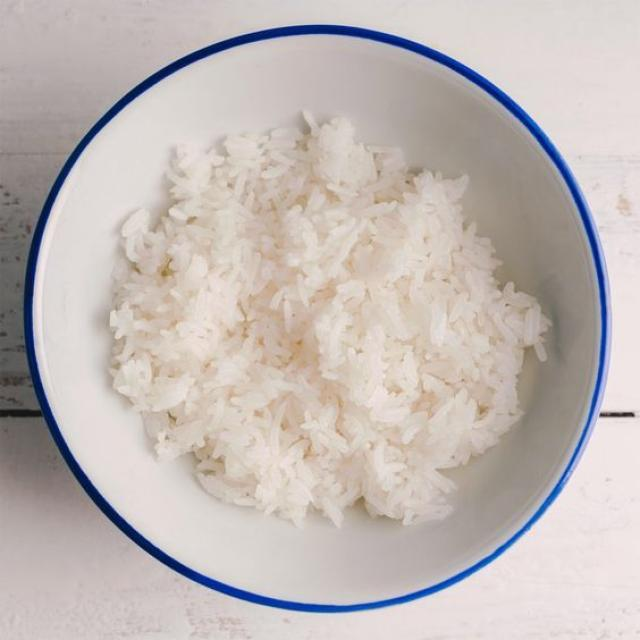nasi_putih: (108, 106, 568, 528)
